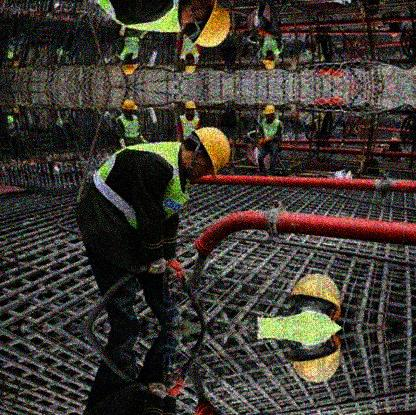helmet: (181, 124, 232, 181), (286, 337, 343, 384), (288, 273, 342, 320), (180, 1, 232, 49), (122, 55, 137, 75), (122, 100, 138, 117), (263, 52, 277, 70), (185, 55, 197, 75), (263, 105, 276, 122), (185, 100, 197, 117)
